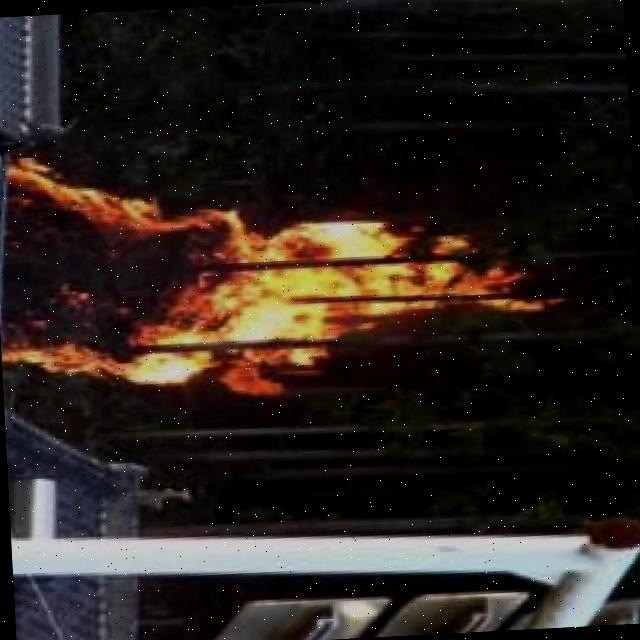fire: (0, 151, 584, 435)
